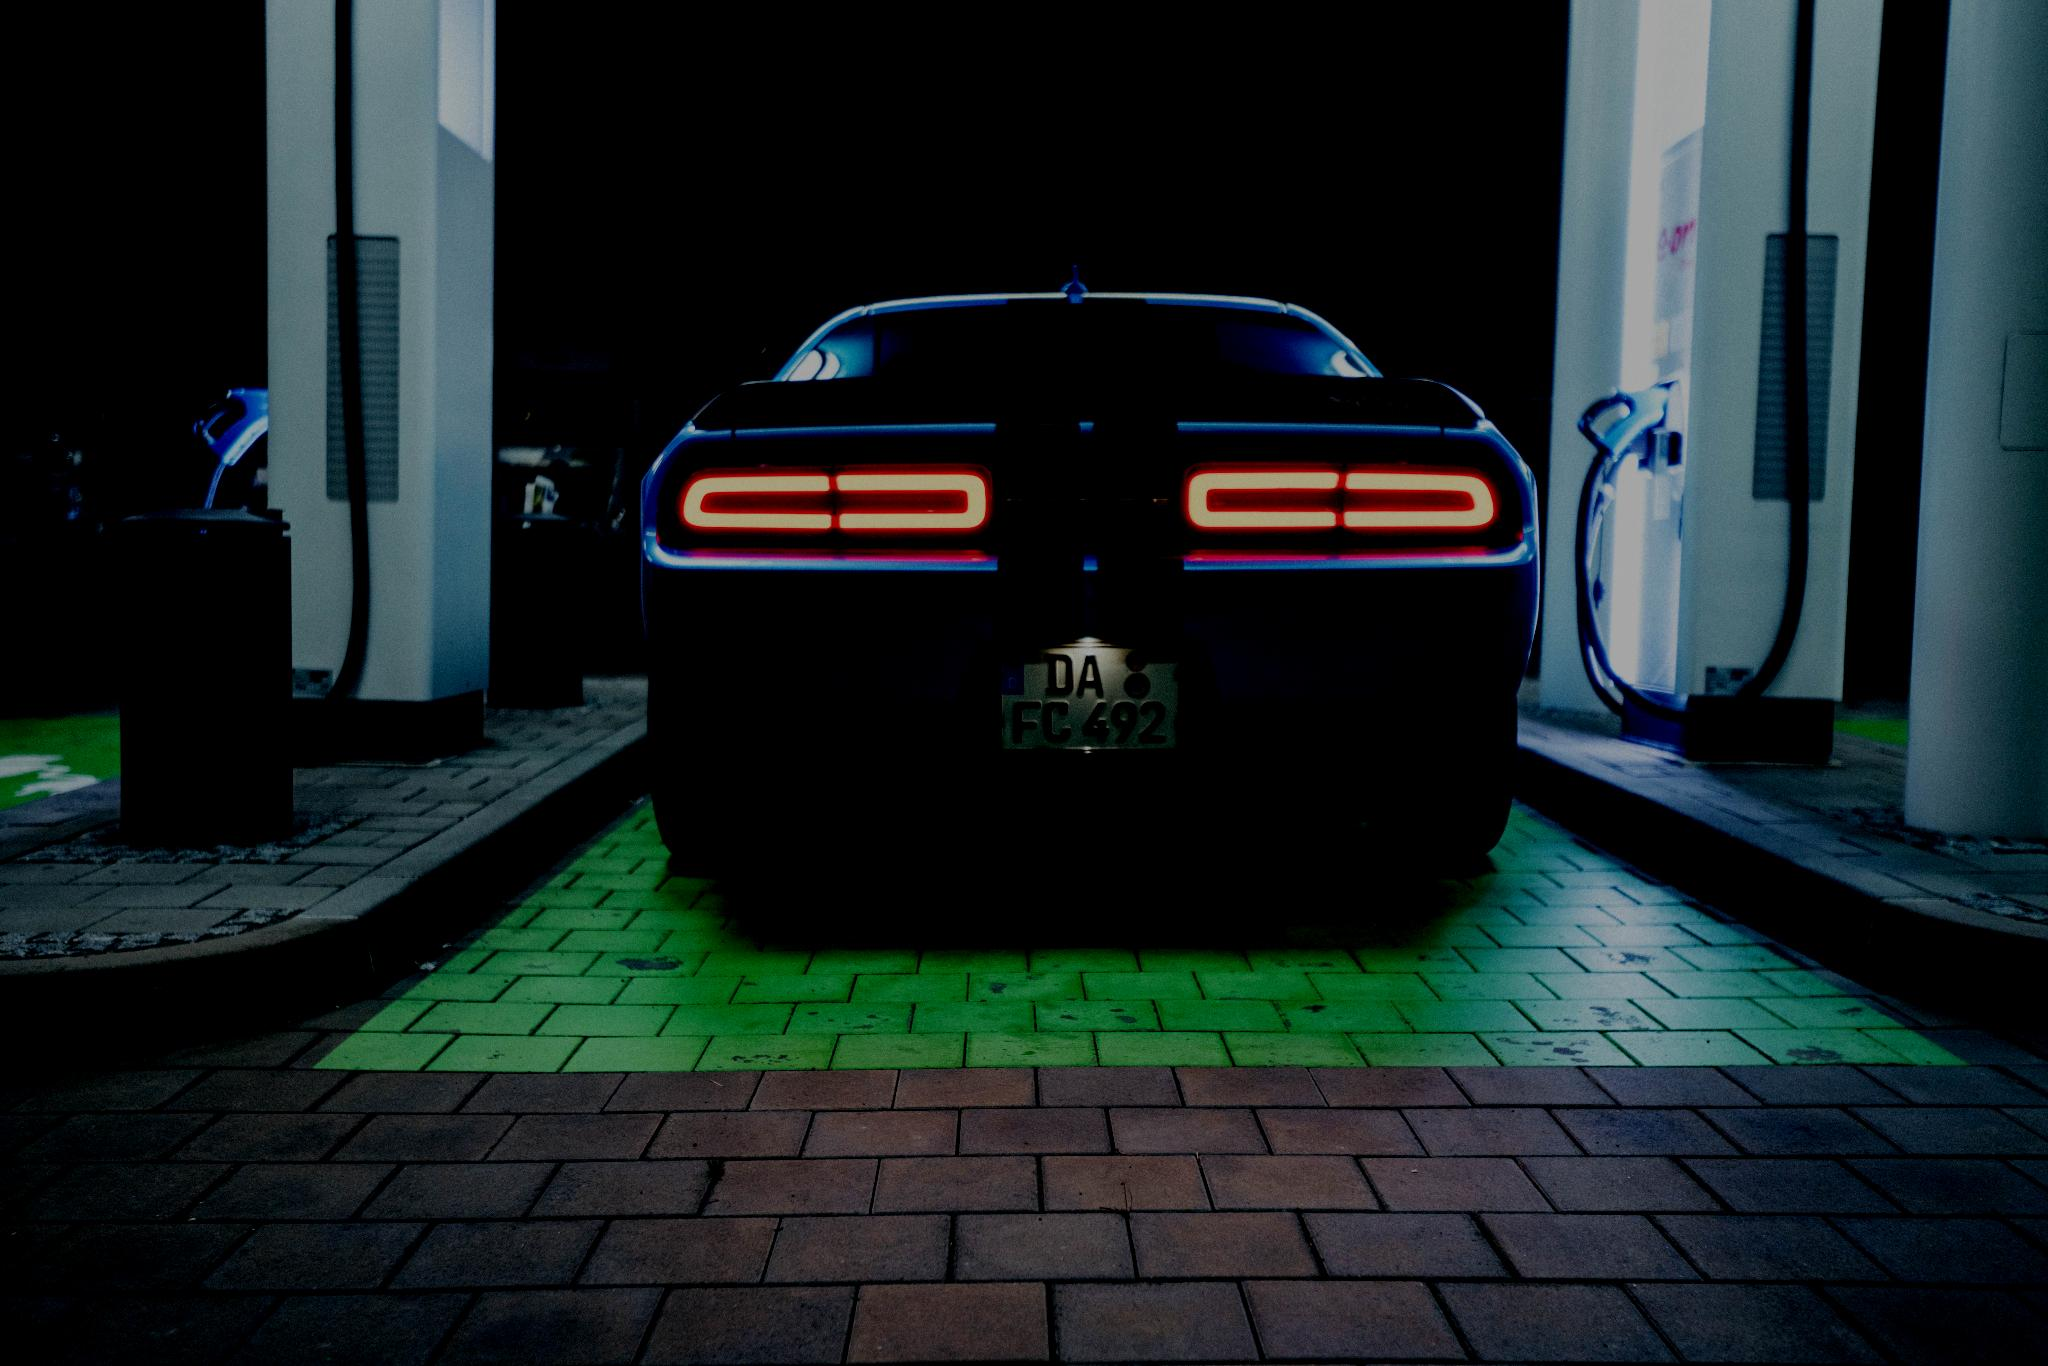dodge: (986, 477, 1187, 521)
